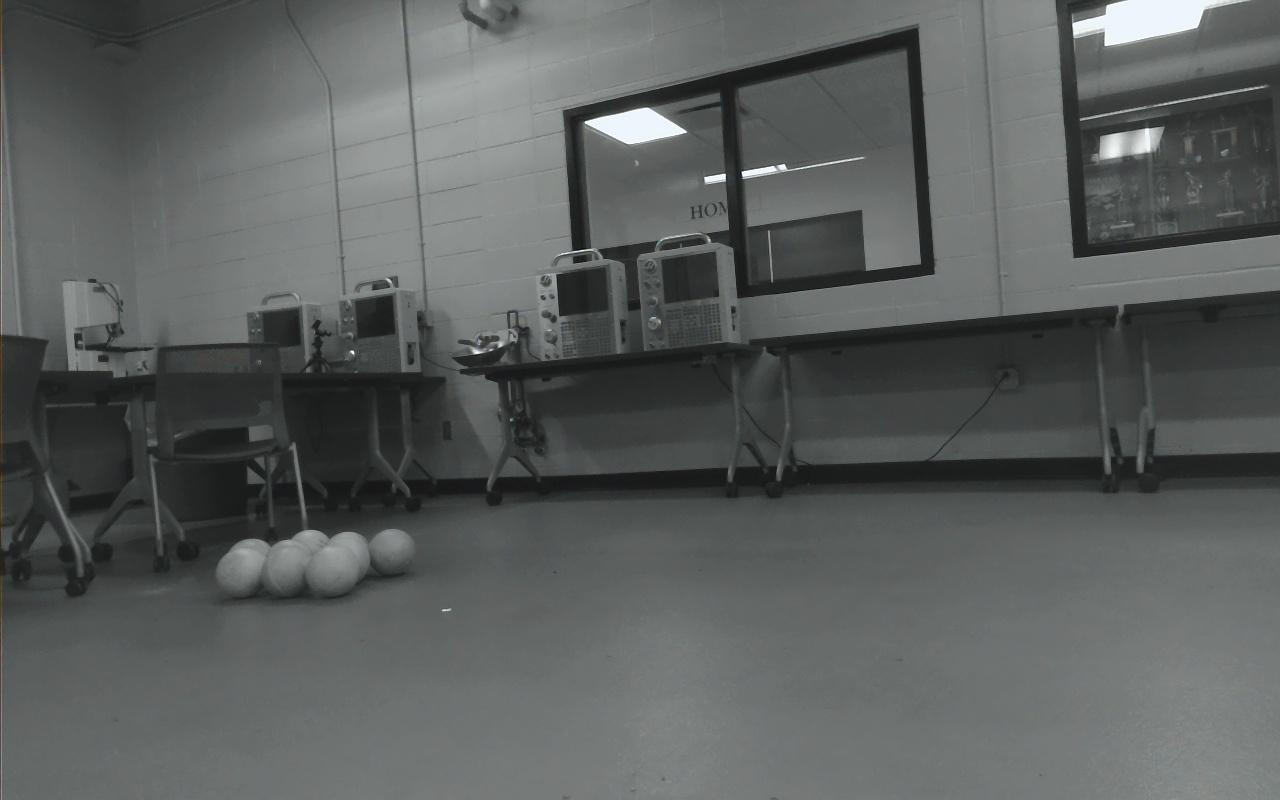Fuel: (305, 544, 360, 599), (262, 545, 312, 599), (216, 548, 265, 600), (320, 538, 370, 585), (369, 528, 417, 576), (229, 538, 271, 589), (270, 538, 315, 585), (329, 531, 371, 578), (292, 530, 329, 574)
